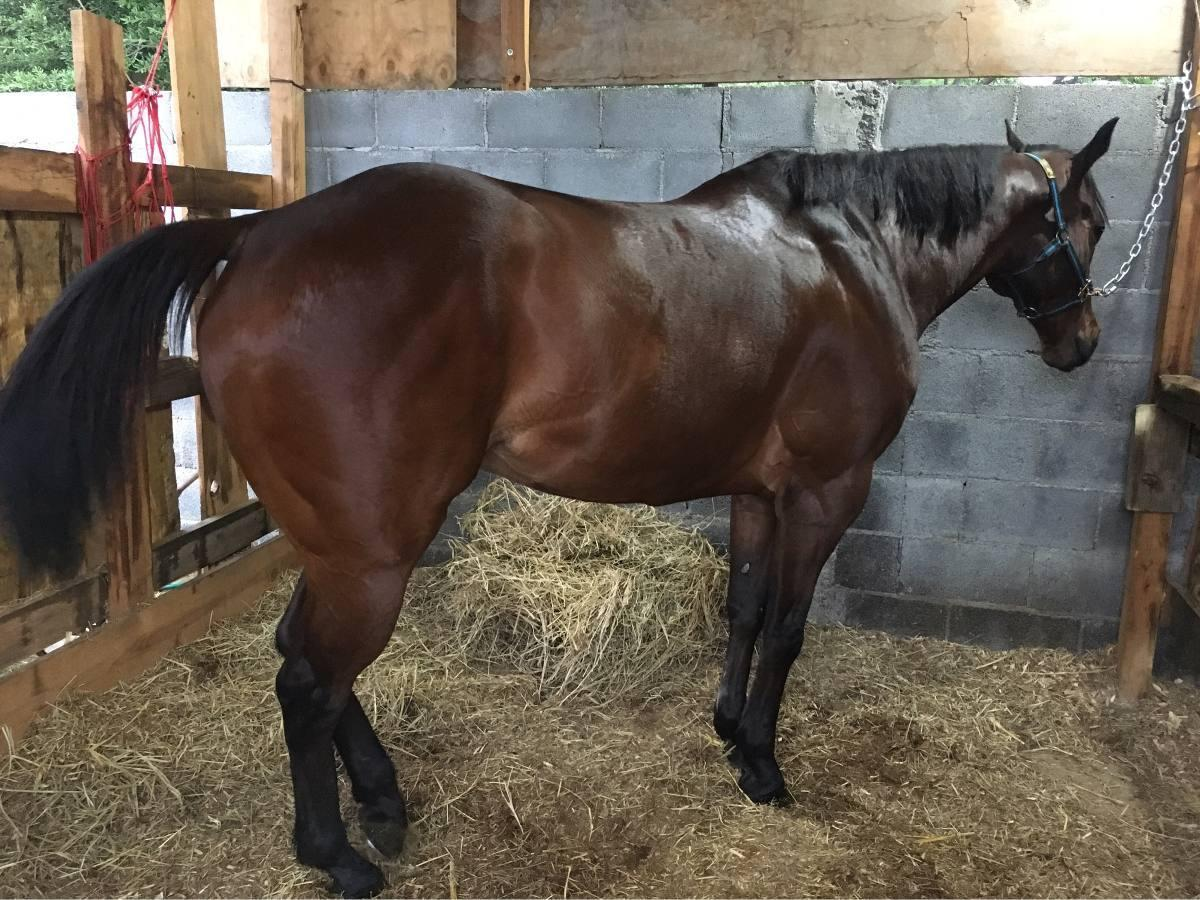horse: (0, 110, 1133, 900)
